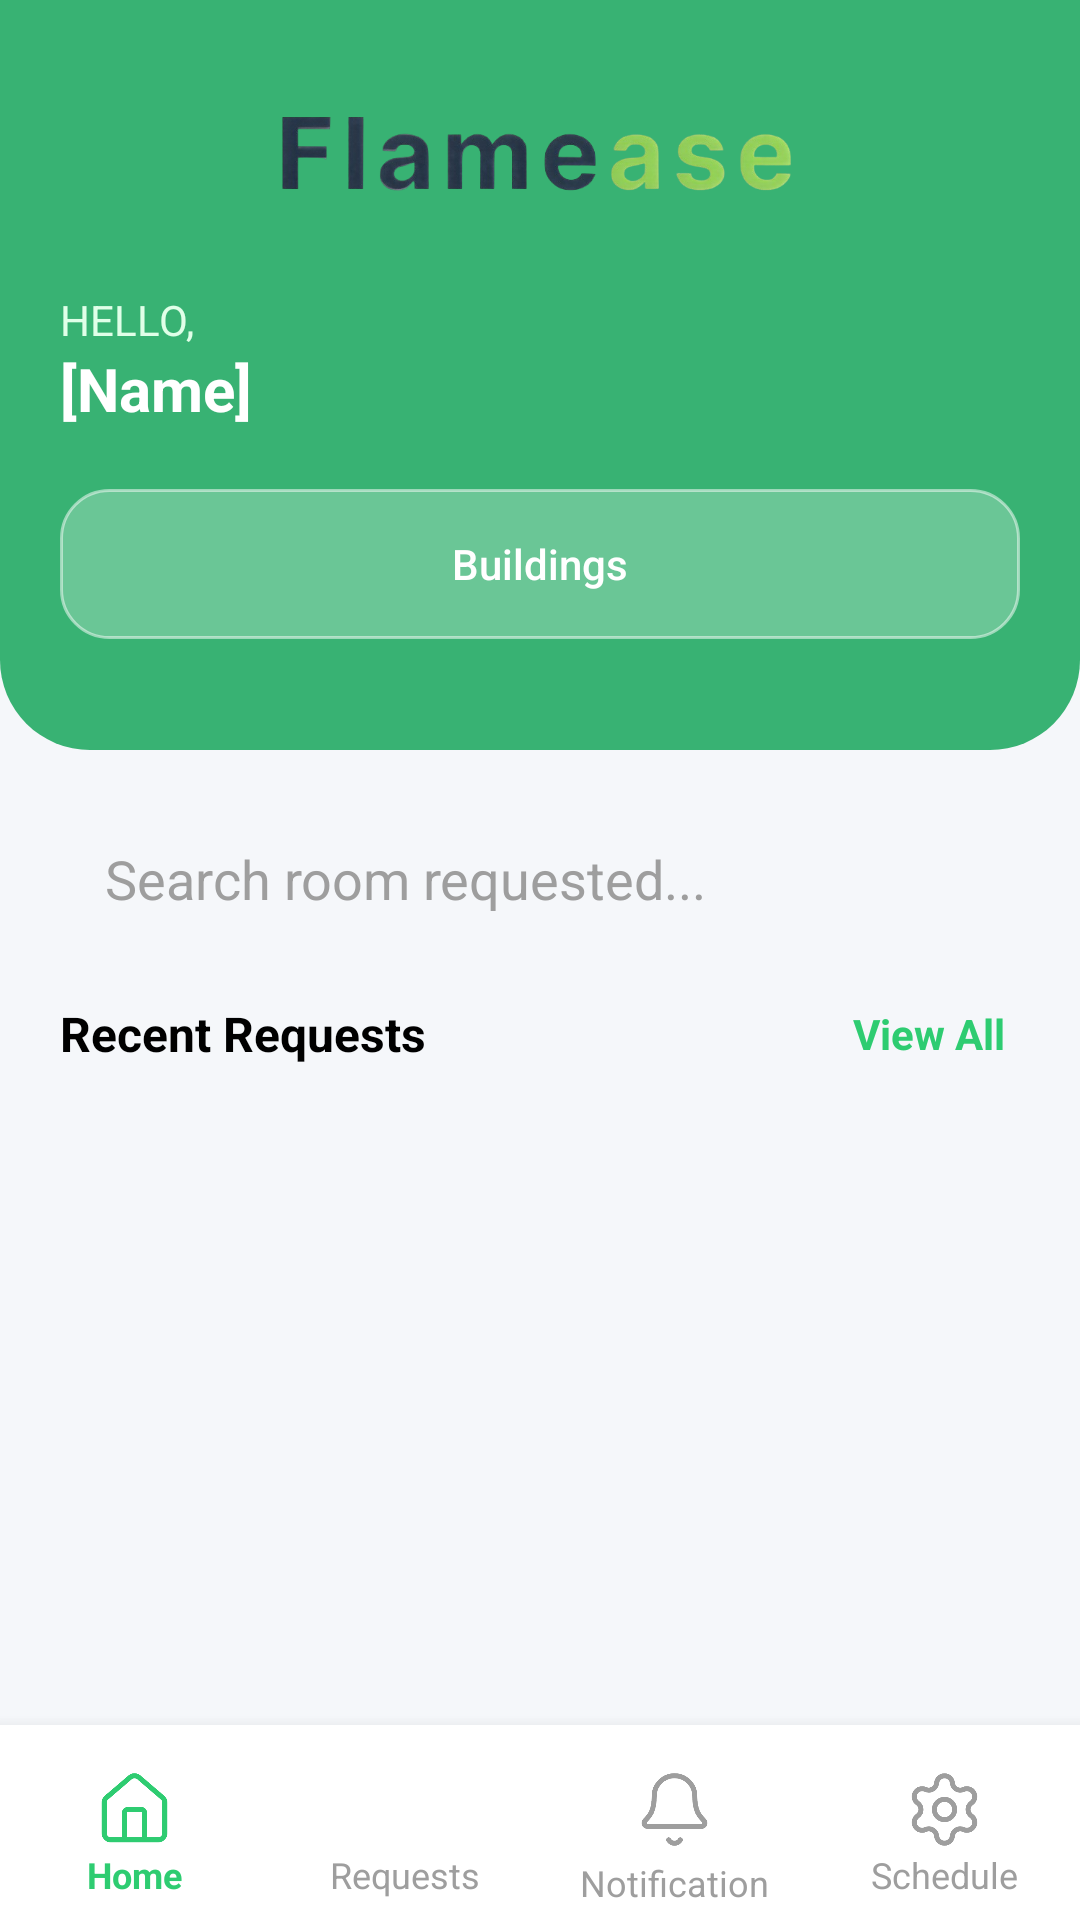

Named icons in this screenshot (1080 x 1920) and their bounding boxes, detection(x1, y1, x2, y2):
settings: detection(912, 1773, 977, 1846)
